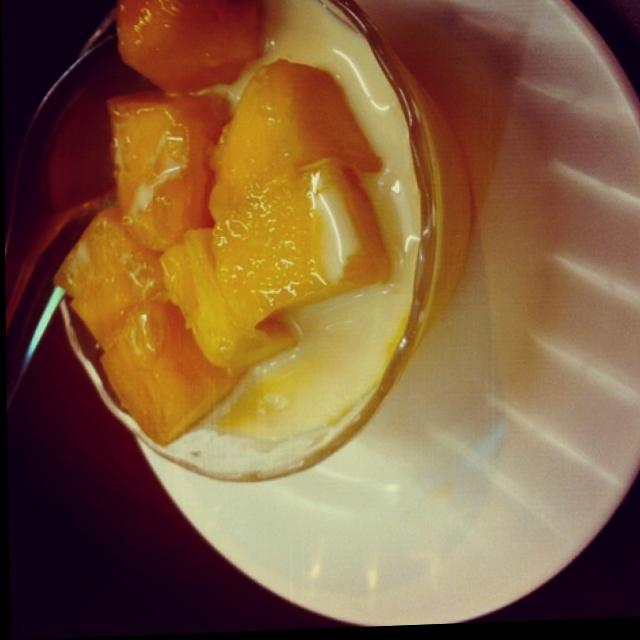蛋糕甜品: (46, 0, 468, 487)
